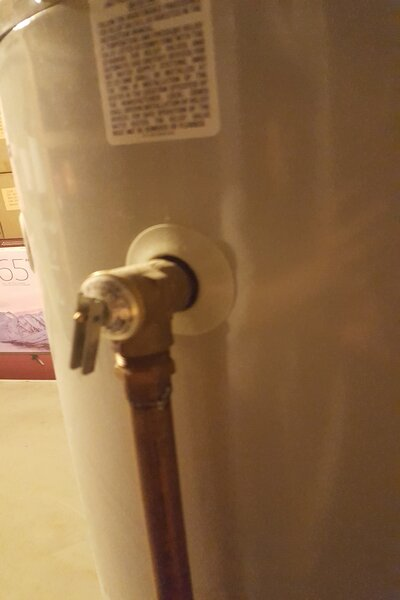valve: (70, 256, 205, 409)
